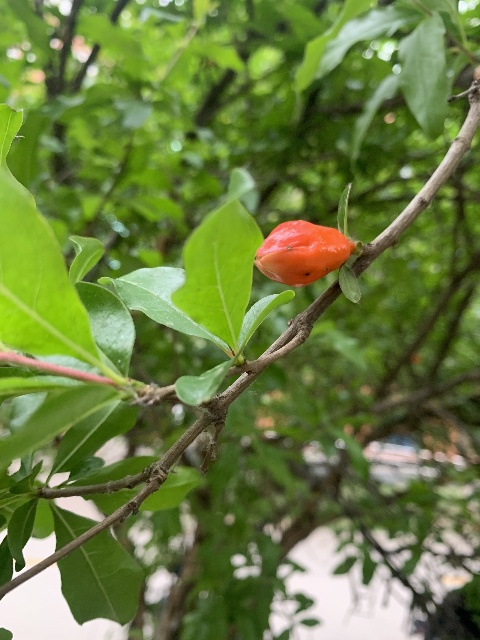bud: (255, 220, 354, 287)
